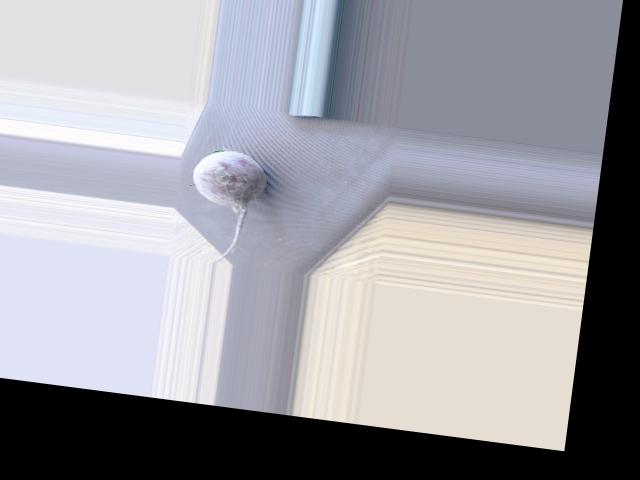beet: (183, 146, 269, 267)
